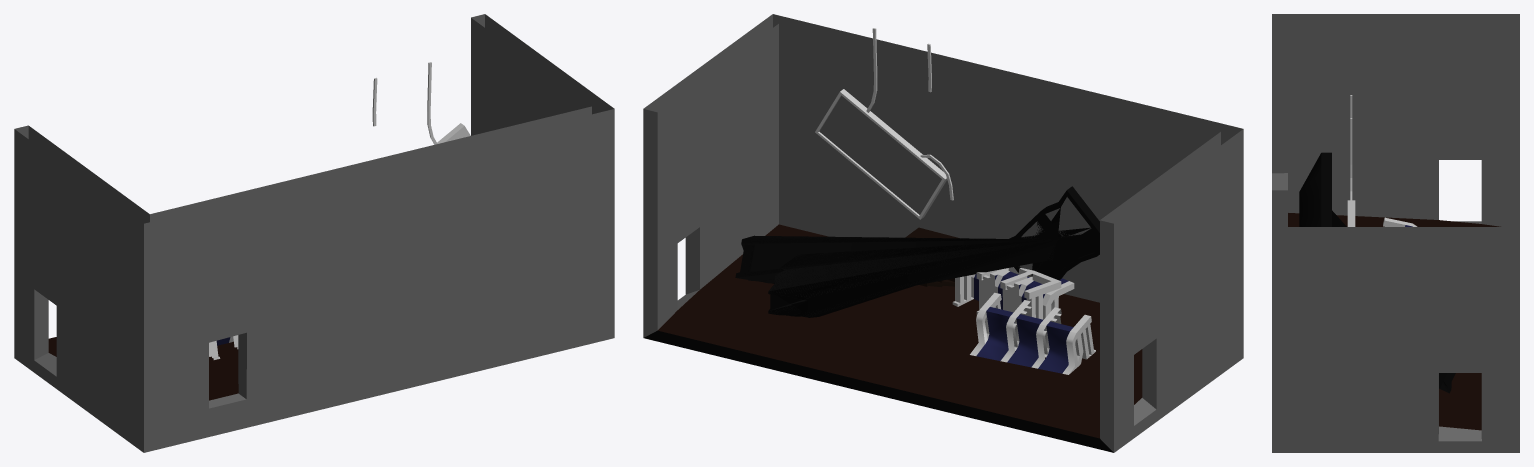
Rendered from hospital1.FBX.
The picture shows the model from 3 angles, left to right: view 1: azimuth 30°, elevation 25°; view 2: azimuth 150°, elevation 25°; view 3: azimuth 270°, elevation 25°; orthographic projection. The views are drawn at different scales.
Parts seen in each view (by area): view 1: Box008; view 2: Box008; view 3: Box008.
Boxes of the visible parts, x1,y1,x2,y2 form: Box008: [14, 14, 614, 452]; Box008: [643, 14, 1243, 452]; Box008: [1272, 14, 1519, 452].
Bounding box in the file's own units: 1023 × 581 × 487.
